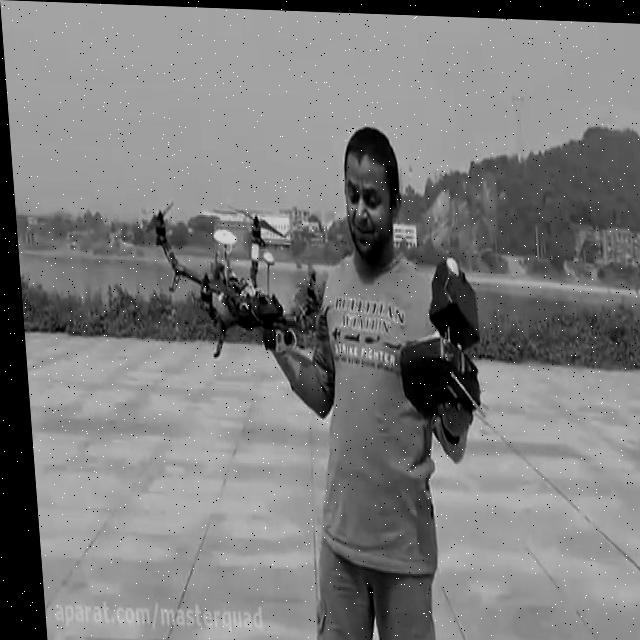drone: (132, 194, 326, 361)
